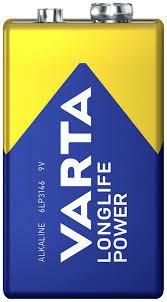9V Battery: (3, 2, 165, 300)
